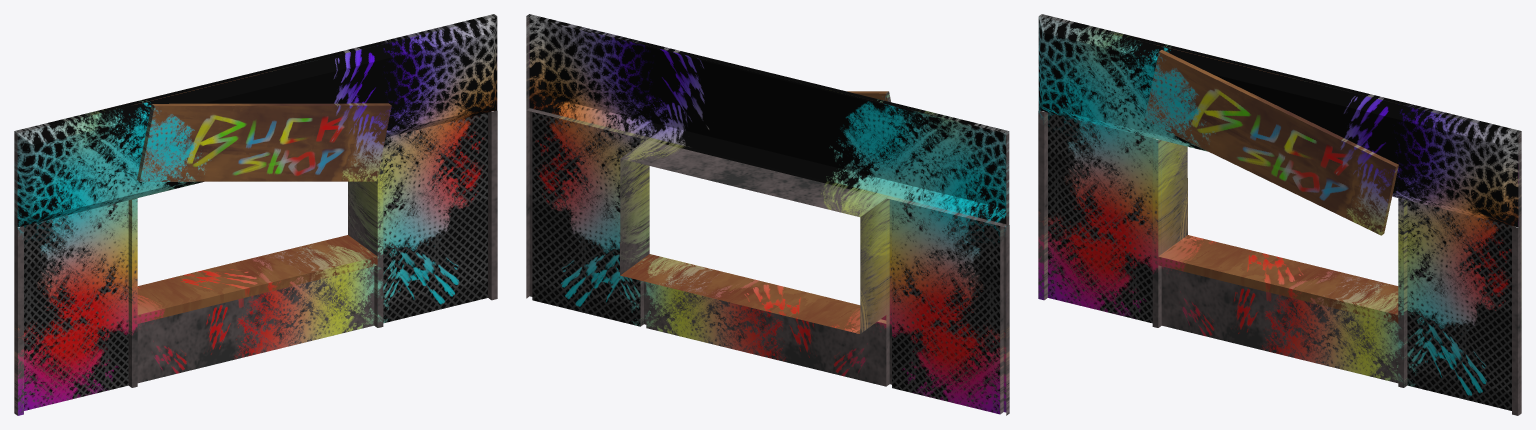
File: Shop2.fbx
3 views of the same model, side by side, from view 1: azimuth 30°, elevation 25°; view 2: azimuth 150°, elevation 25°; view 3: azimuth 330°, elevation 25° (orthographic).
Visible parts, largest first — view 1: shopfront; view 2: shopfront; view 3: shopfront.
Boxes of the visible parts, x1=… form: shopfront: x1=14, y1=14, x2=497, y2=415; shopfront: x1=526, y1=14, x2=1009, y2=415; shopfront: x1=1038, y1=14, x2=1521, y2=415.
Bounding box in the file's own units: 1090 × 618 × 149.
